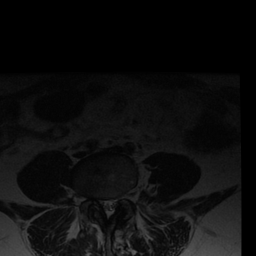CCS_normal: (104, 193, 111, 223)
LFS_severe_stenosis: (117, 192, 123, 207)
LLS_normal: (110, 193, 116, 215)
RFS_severe_stenosis: (89, 193, 98, 209)
RLS_stenosis: (98, 194, 105, 213)
